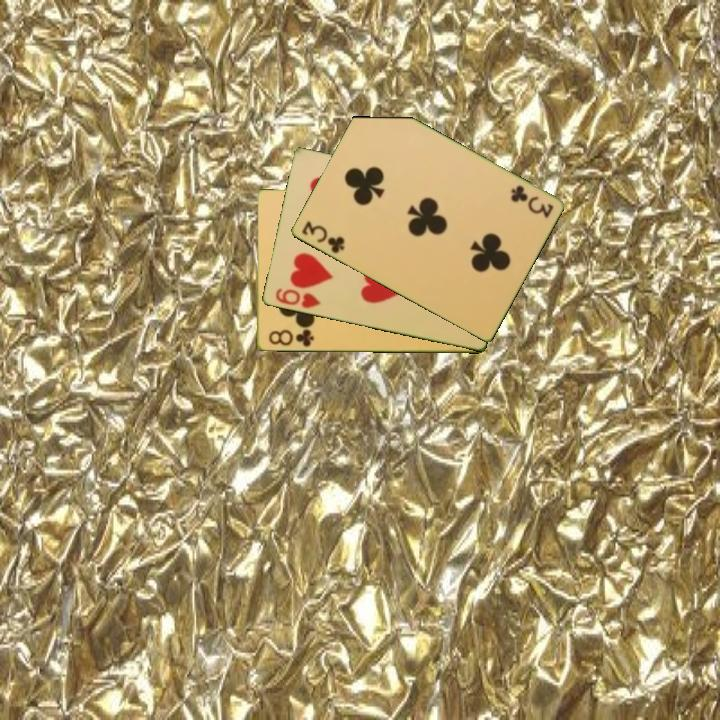3c: (298, 217, 347, 256), (507, 182, 556, 221)
6h: (271, 285, 323, 312)
8c: (265, 326, 316, 350)
